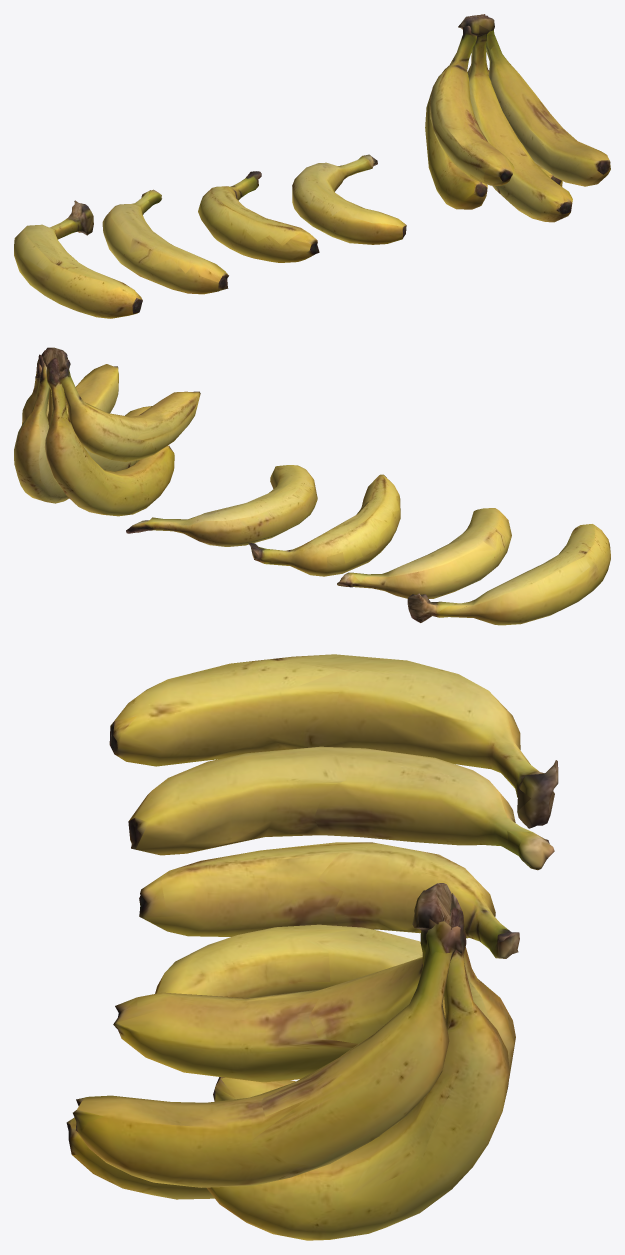
File: bananas.glb
3 views of the same model, one above another, from view 1: azimuth 30°, elevation 25°; view 2: azimuth 150°, elevation 25°; view 3: azimuth 270°, elevation 25° (orthographic). The views are drawn at different scales.
Visible parts, largest first — view 1: bananas_bunch, bananas_d, bananas_c, bananas_a, bananas_b; view 2: bananas_bunch, bananas_d, bananas_c, bananas_a, bananas_b; view 3: bananas_bunch, bananas_d, bananas_c, bananas_b, bananas_a.
Part boxes in pixels (bbox=[...]): bananas_bunch: bbox=[425, 14, 610, 222]; bananas_d: bbox=[14, 200, 142, 318]; bananas_c: bbox=[102, 189, 228, 294]; bananas_a: bbox=[292, 154, 406, 244]; bananas_b: bbox=[198, 171, 319, 262]; bananas_bunch: bbox=[14, 347, 200, 516]; bananas_d: bbox=[407, 524, 610, 625]; bananas_c: bbox=[337, 508, 511, 598]; bananas_a: bbox=[126, 465, 317, 546]; bananas_b: bbox=[248, 474, 400, 576]; bananas_bunch: bbox=[66, 883, 515, 1240]; bananas_d: bbox=[109, 654, 558, 828]; bananas_c: bbox=[128, 746, 554, 870]; bananas_b: bbox=[139, 842, 519, 958]; bananas_a: bbox=[155, 924, 422, 997].
Size of the model in its own units: 0.6002 by 0.1793 by 0.244.
1 material, 1 textured.
